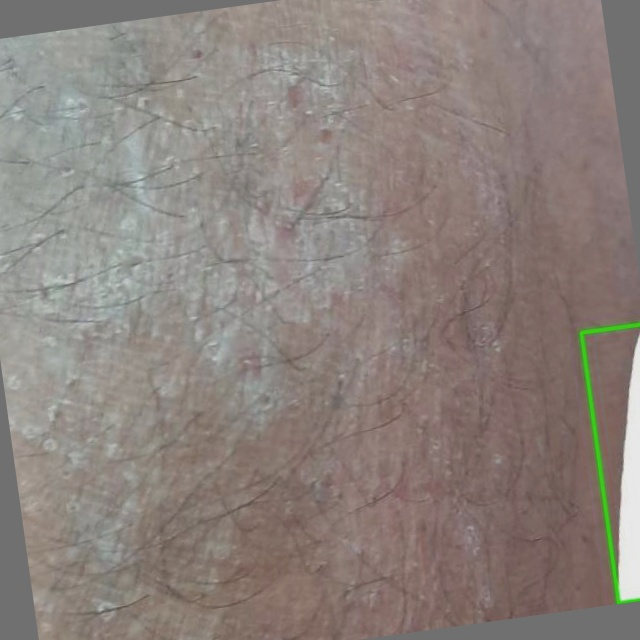Contact Dermatitis: (581, 324, 639, 603)
